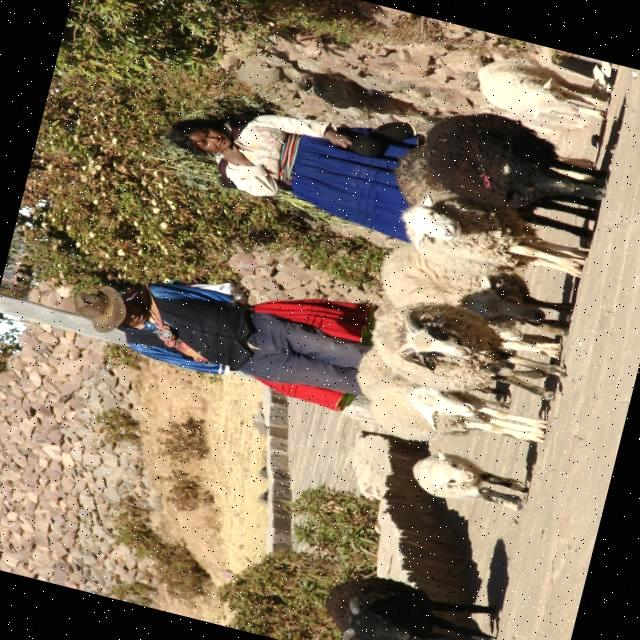sheep: (323, 574, 490, 640), (412, 451, 520, 509)
